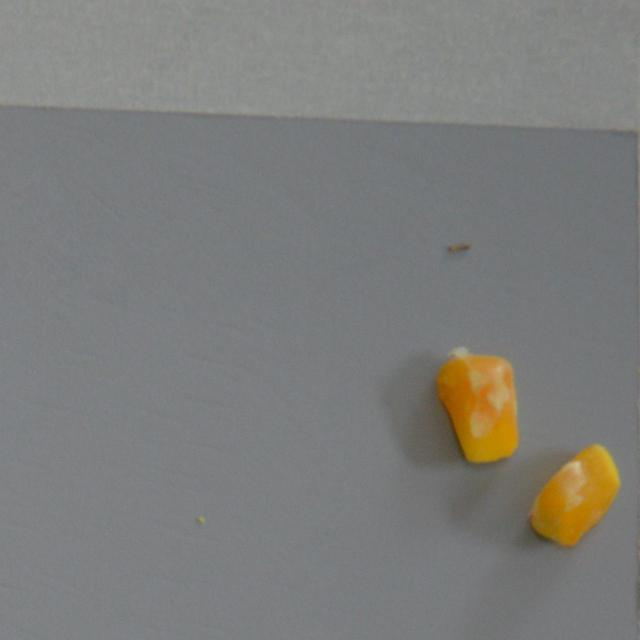pelicula: (436, 350, 522, 465), (526, 440, 619, 546)
